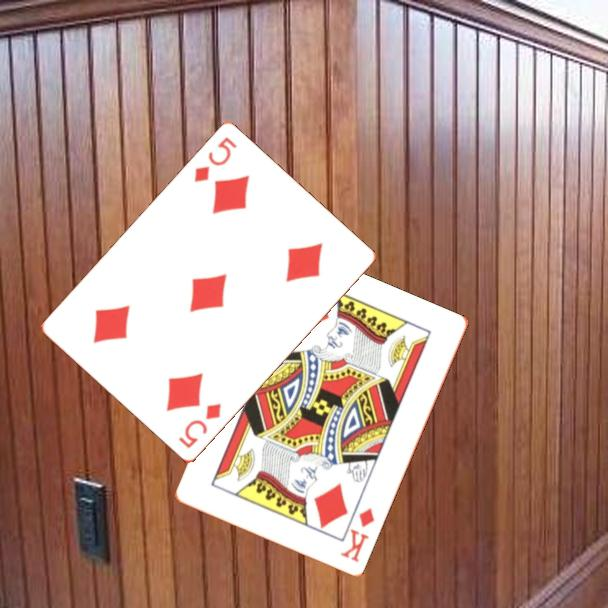d05: (175, 400, 224, 452), (191, 134, 240, 186)
d13: (337, 505, 378, 565)
